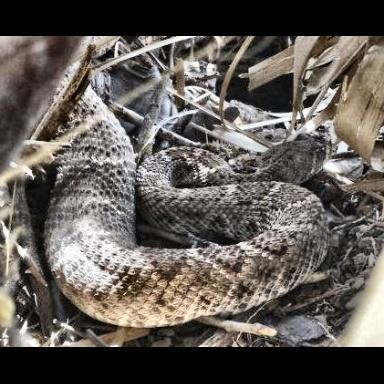snake: (16, 85, 330, 328)
